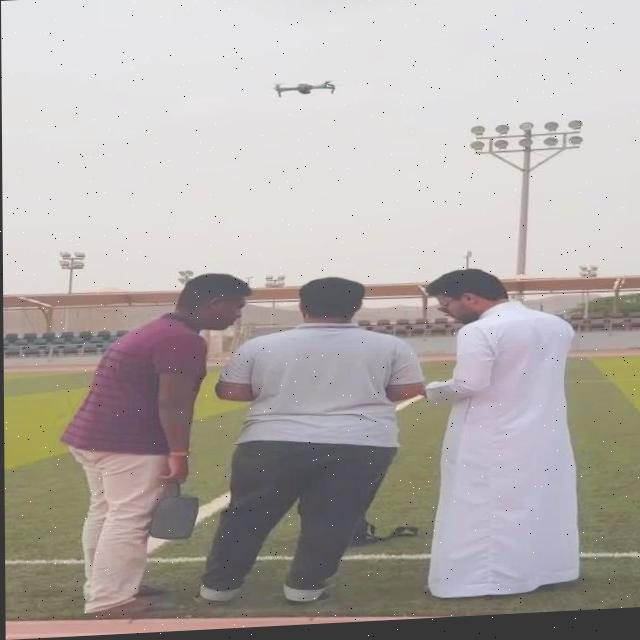drone: (267, 78, 342, 105)
